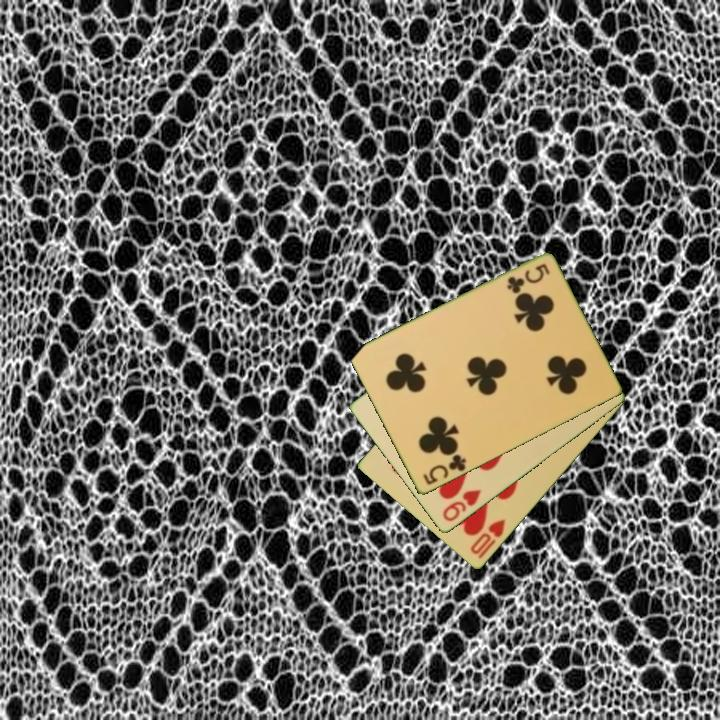10h: (467, 515, 508, 562)
5c: (419, 451, 469, 488), (503, 260, 553, 297)
9h: (439, 486, 484, 525)
